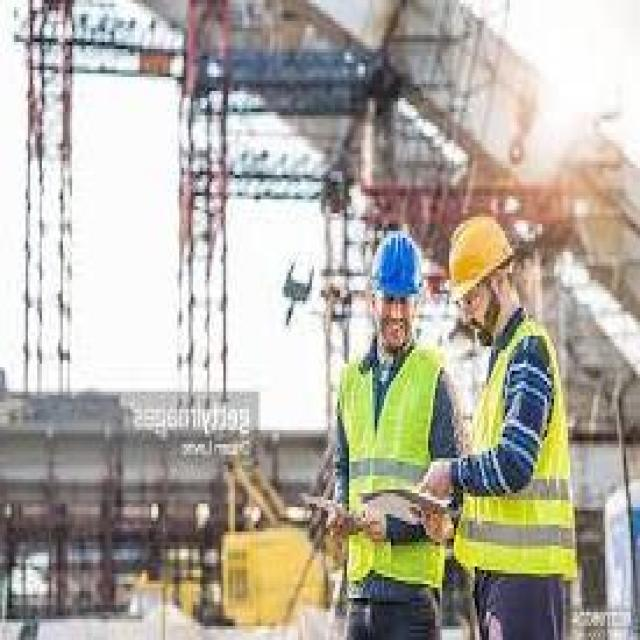Reflective-Jacket: (454, 318, 586, 581), (326, 336, 454, 594)
Safety-Helmet: (439, 203, 524, 311), (358, 220, 433, 315)
